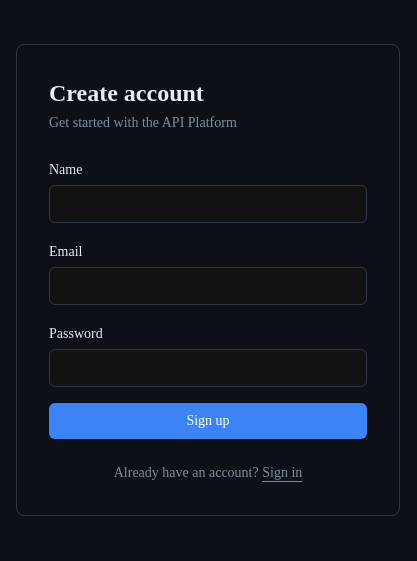
Test: RegisterPage › does not redirect when sign-up fails
Type "Alice" into the field labelled "Name". click: coordinates (208, 204)
box: [49,185,367,223]
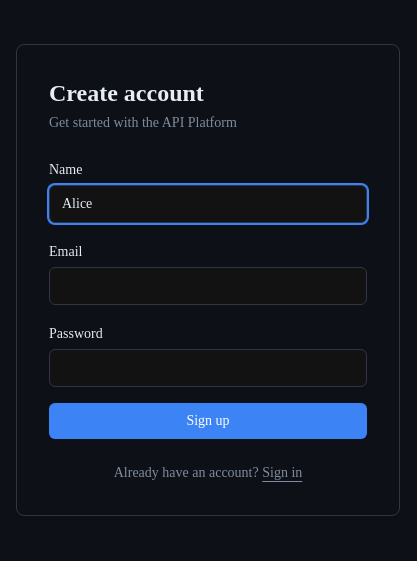
Type "alice@example.com" into the field labelled "Email". click: coordinates (208, 286)
box: [49,267,367,305]
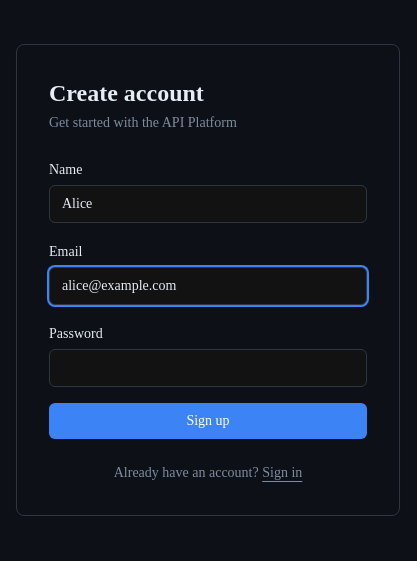
Type "password123" into the password field labelled "Password". click: coordinates (208, 368)
box: [49,349,367,387]
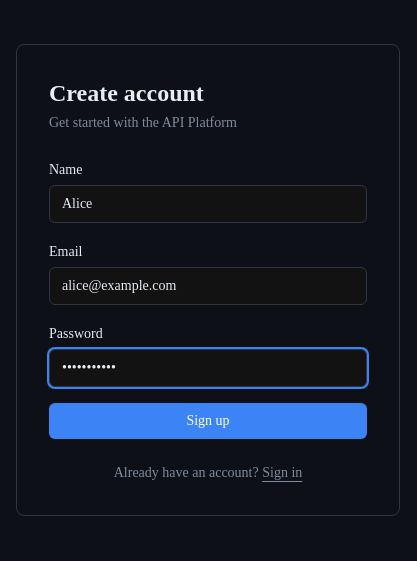
Click the button "Sign up". click: coordinates (208, 421)
box: [49,403,367,439]
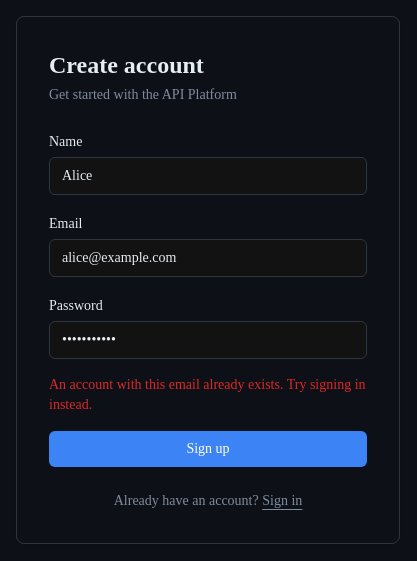
expect the text "An account with this email already exists" is shown: met, box [49,377,366,412]
